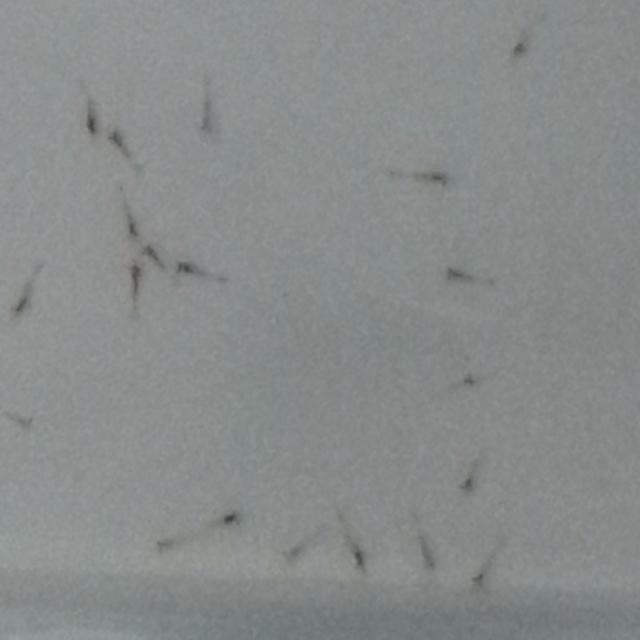shrimp-seed: (413, 539, 447, 577), (468, 554, 500, 592), (274, 539, 306, 571), (123, 259, 147, 299), (212, 503, 242, 535), (439, 262, 473, 290), (195, 100, 220, 138), (101, 124, 132, 154), (8, 287, 33, 324), (118, 207, 146, 240), (416, 166, 454, 190), (138, 236, 164, 270), (155, 534, 189, 560), (343, 542, 369, 576), (506, 36, 534, 66), (174, 253, 203, 280), (446, 370, 478, 394), (81, 105, 102, 141), (456, 468, 480, 498), (10, 412, 42, 433)
